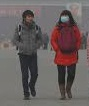person: (50, 9, 83, 100), (13, 9, 42, 99), (69, 4, 82, 21), (42, 30, 49, 49)
